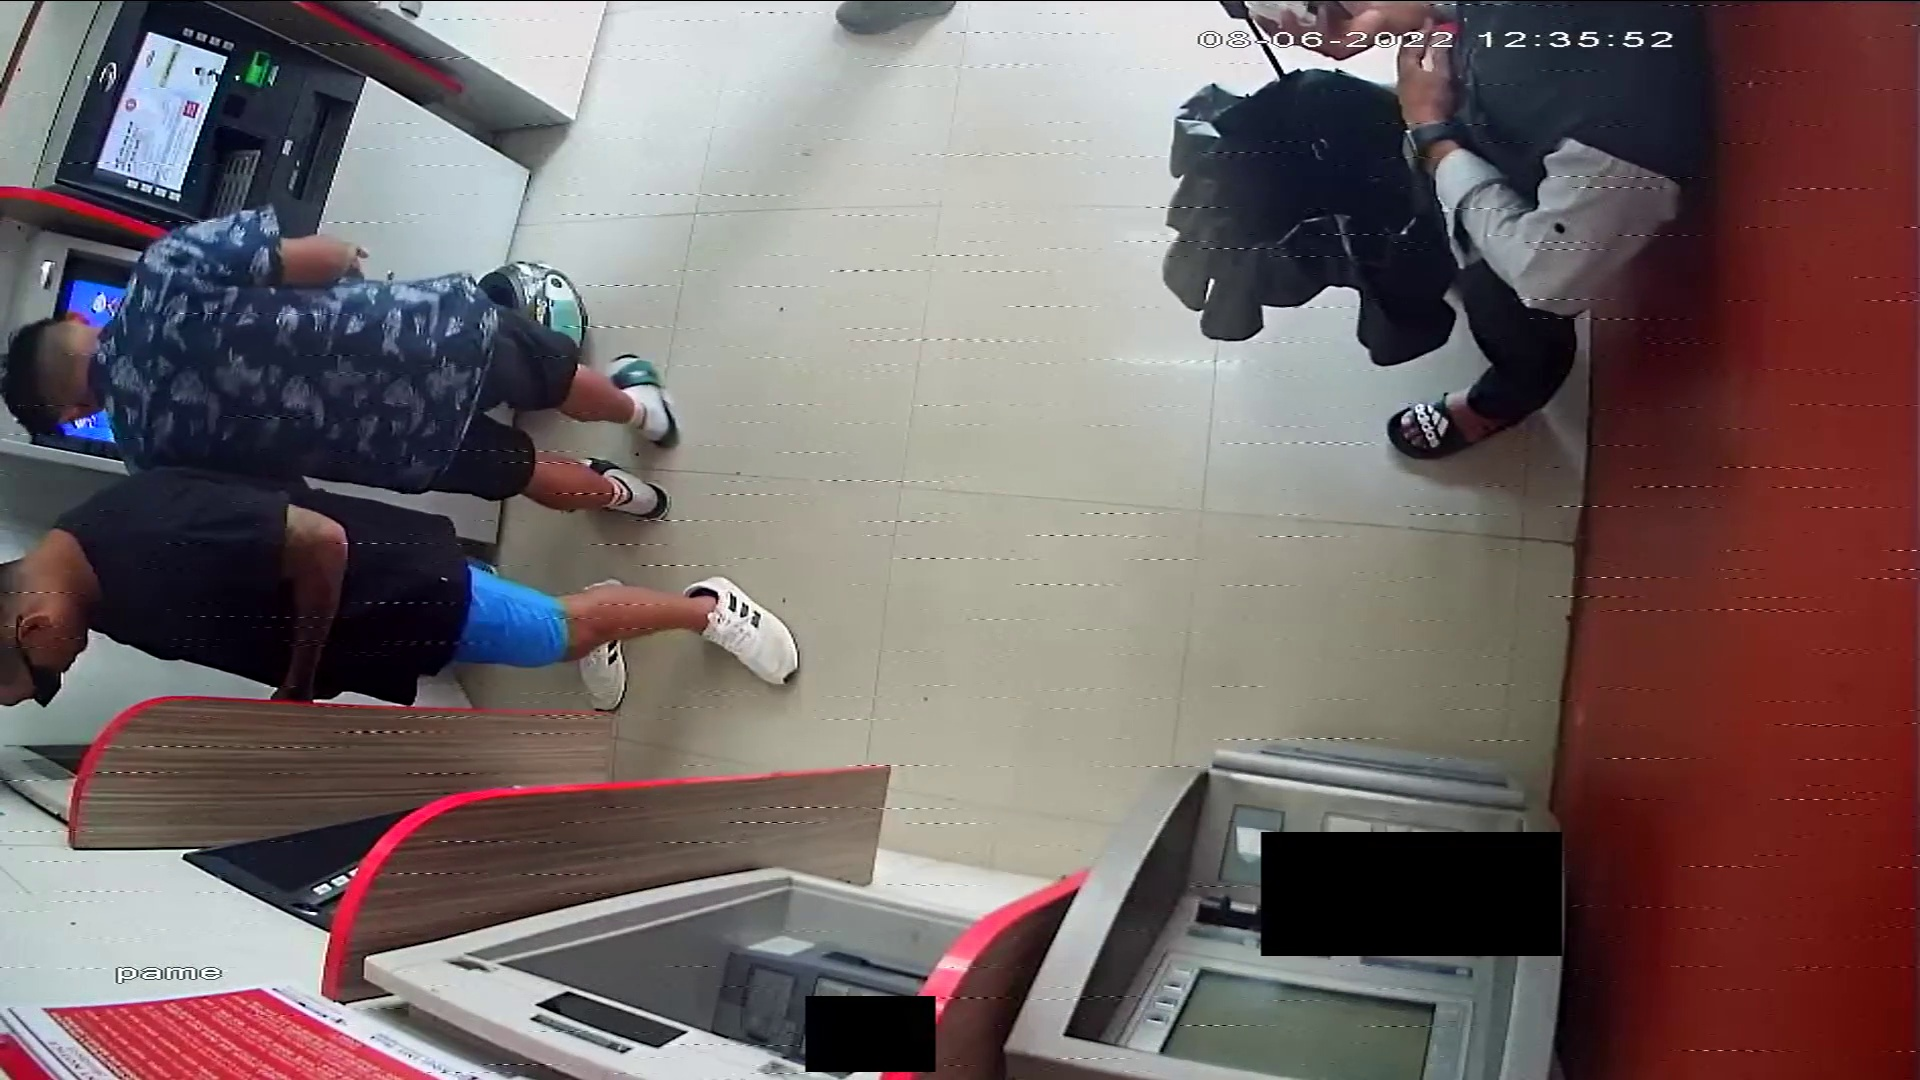person: (3, 210, 687, 516), (1247, 1, 1695, 462), (1, 466, 799, 712)
